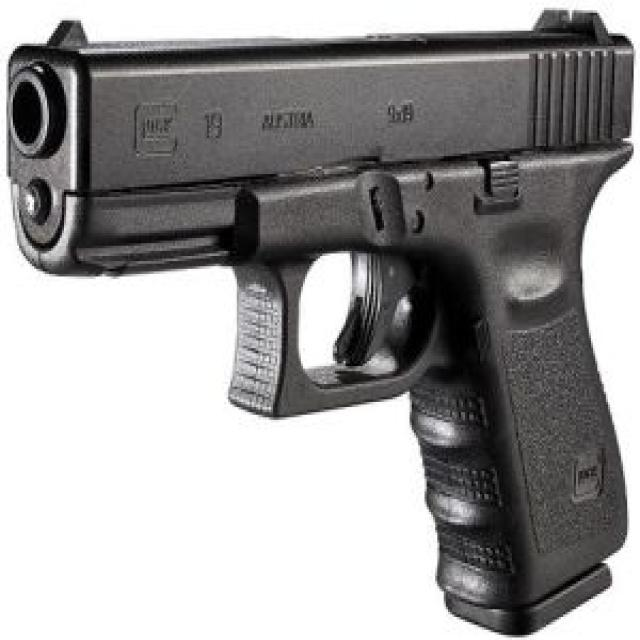HandGun: (0, 8, 638, 637)
